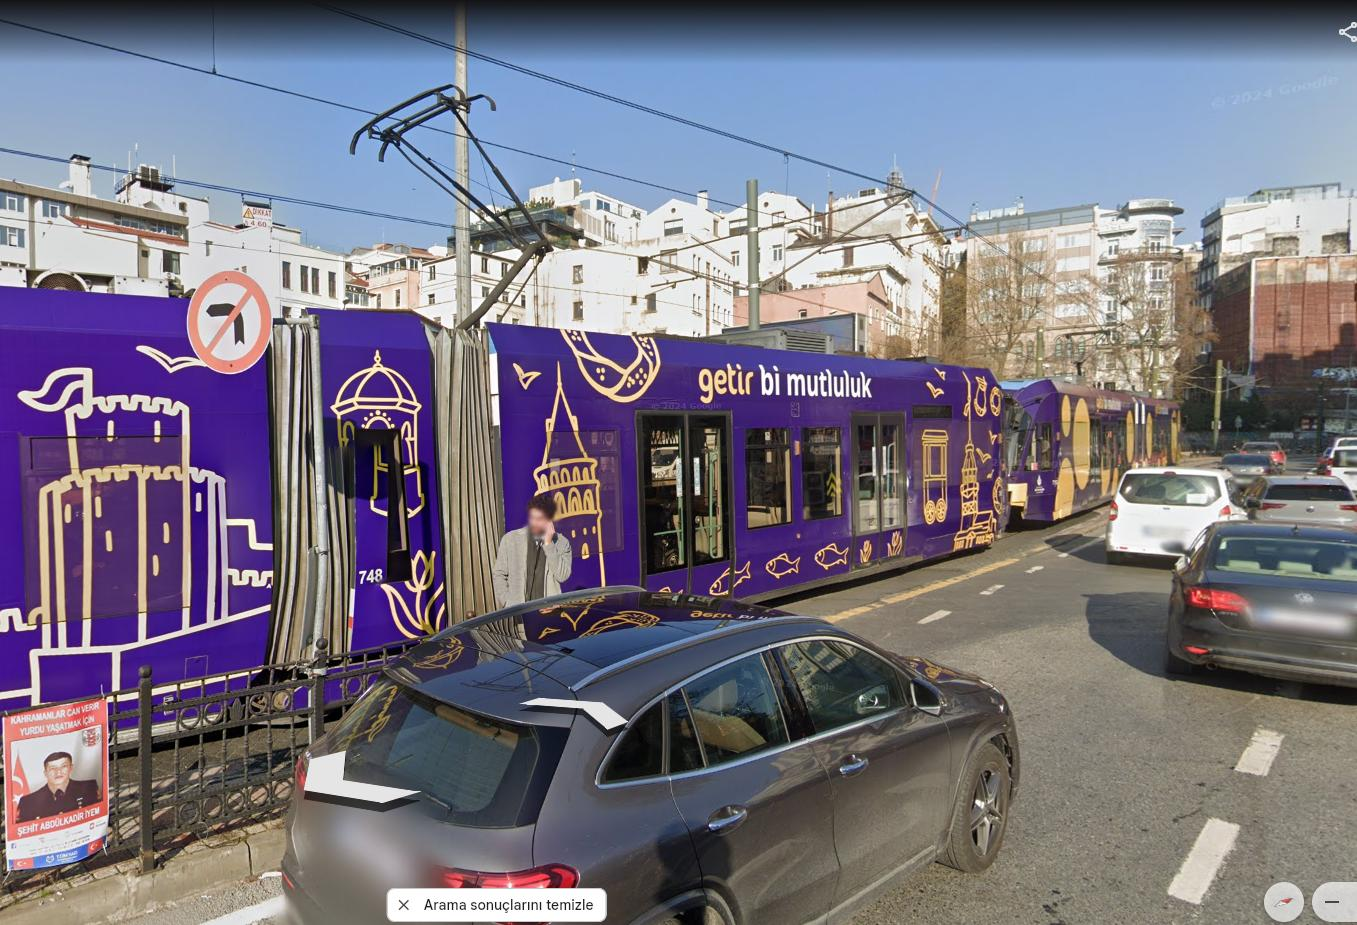leftturnsareforbidden: (194, 272, 270, 367)
